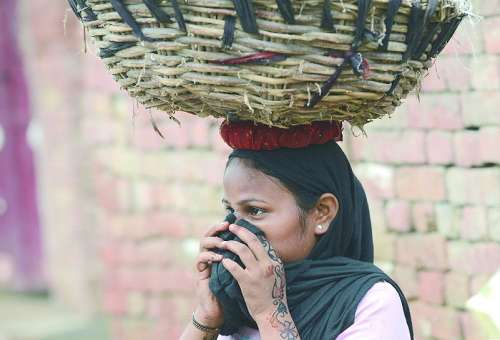face: (222, 166, 309, 275)
